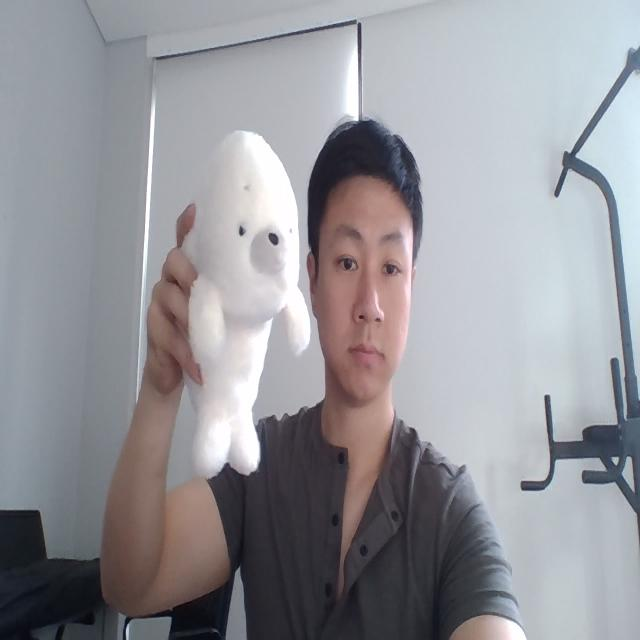seal_bb: (175, 129, 311, 477)
